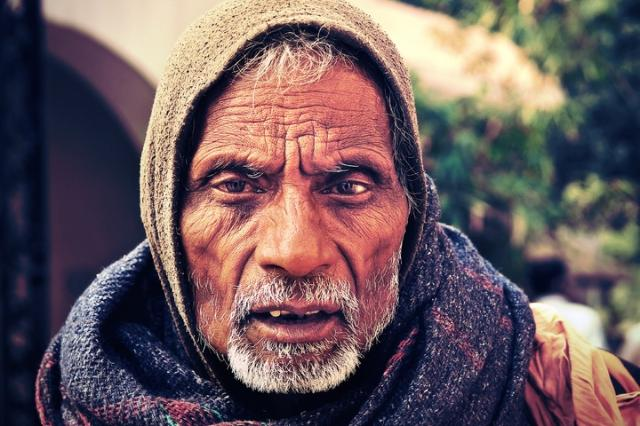forehead: (259, 94, 291, 128), (333, 123, 363, 155), (299, 98, 325, 134), (222, 91, 248, 123), (334, 98, 361, 118)
frown_line: (278, 144, 308, 176)
gummy_smile: (336, 247, 362, 288), (228, 250, 254, 288)
